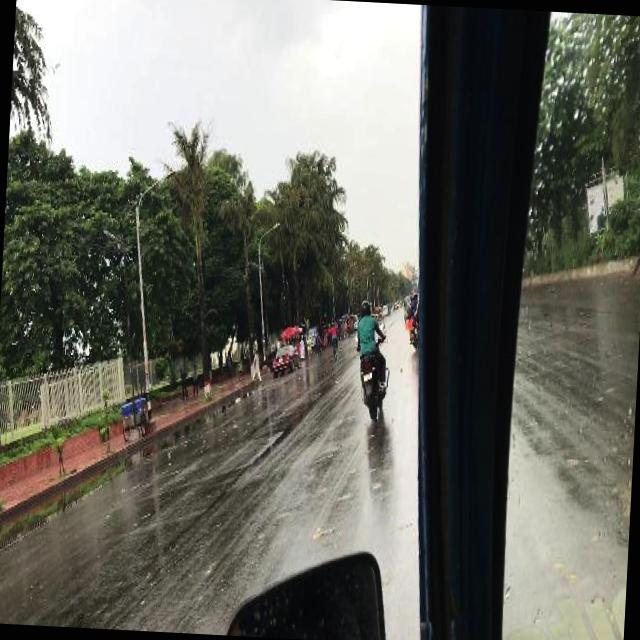car: (271, 343, 301, 374)
motorcycle: (349, 318, 391, 422), (402, 294, 412, 320), (345, 314, 354, 338), (375, 304, 381, 316)
truck: (382, 304, 389, 313)
